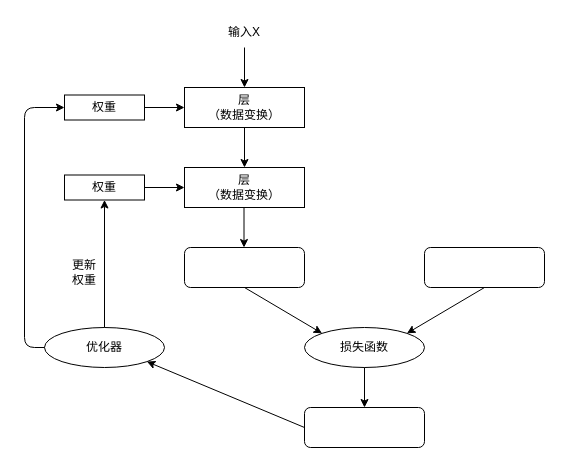
The diagram is 562 pixels wide and 465 high, and some of its shapes have lost their labels. Each missing label, with the box of its shape:
损失值: (304, 406, 424, 448)
目标值 Y: (424, 246, 544, 288)
预测值 Y': (184, 246, 304, 288)
